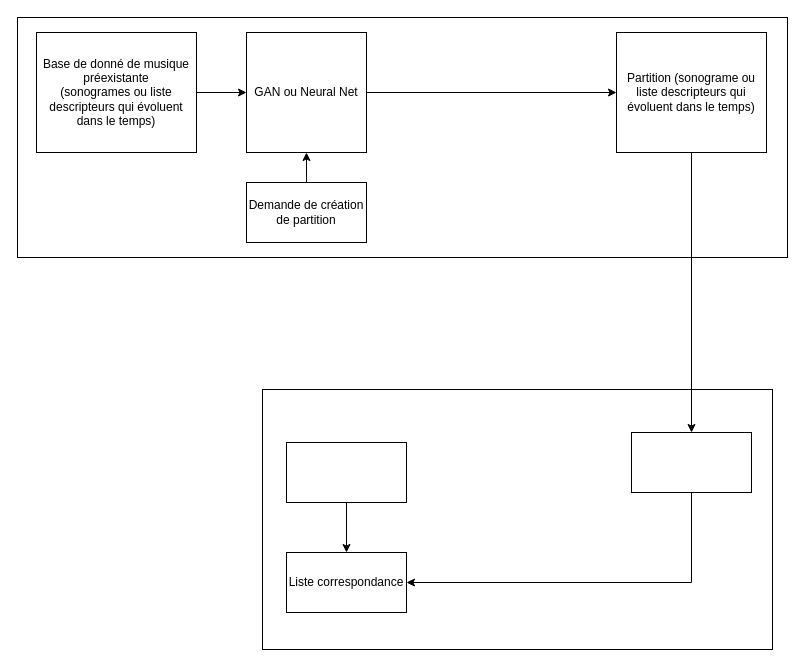
Some shapes in this 805 by 667 pixel diagram are drawn without their labels. The centre of each missing label's shape, as x and y in pixels:
Analyze: the point at 346,472
Automate: the point at 691,462
